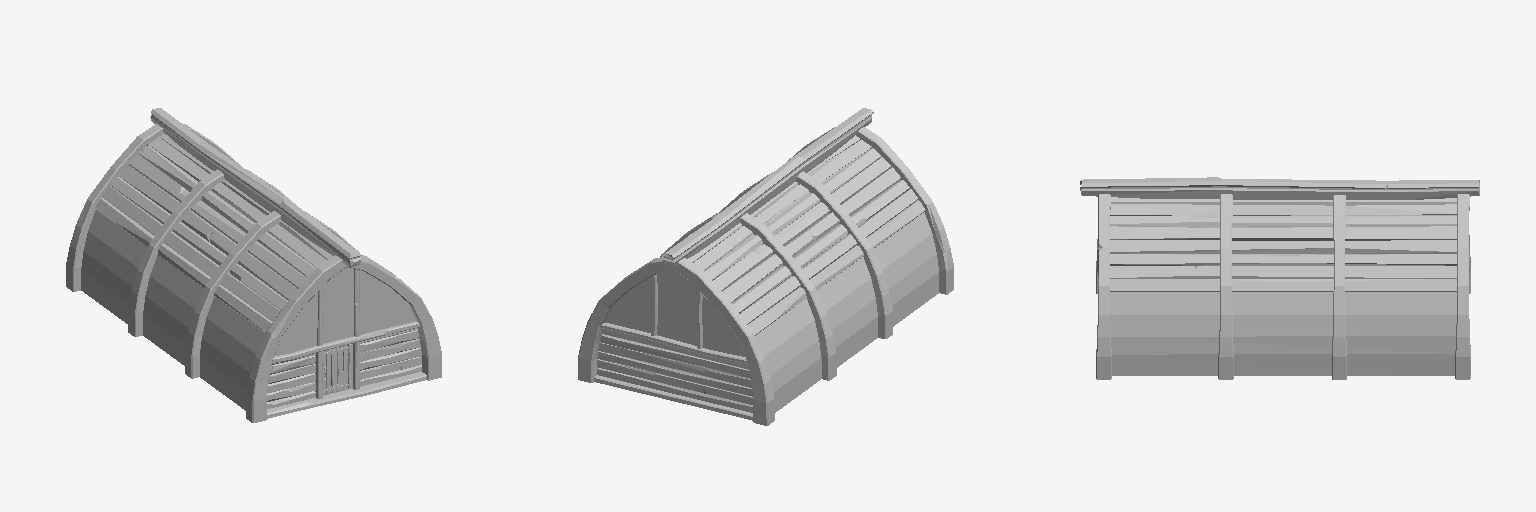
File: Building_1_Wall_Off.obj
The picture shows the model from 3 angles: view 1: azimuth 30°, elevation 25°; view 2: azimuth 150°, elevation 25°; view 3: azimuth 270°, elevation 25°; orthographic projection.
Visible parts, largest first — view 1: Building_1_Wall_Off; view 2: Building_1_Wall_Off; view 3: Building_1_Wall_Off.
Part boxes in pixels (left/top/right/bottom): Building_1_Wall_Off: left=66, top=108, right=441, bottom=422; Building_1_Wall_Off: left=578, top=108, right=953, bottom=425; Building_1_Wall_Off: left=1080, top=177, right=1479, bottom=379.
Bounding box in the file's own units: 8.76 × 6.81 × 15.97.